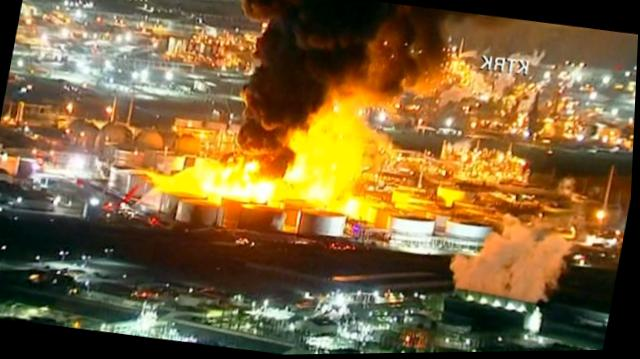fire: (292, 112, 375, 205), (198, 167, 275, 207), (344, 199, 382, 221)
smoke: (214, 0, 500, 138), (233, 105, 290, 161)
